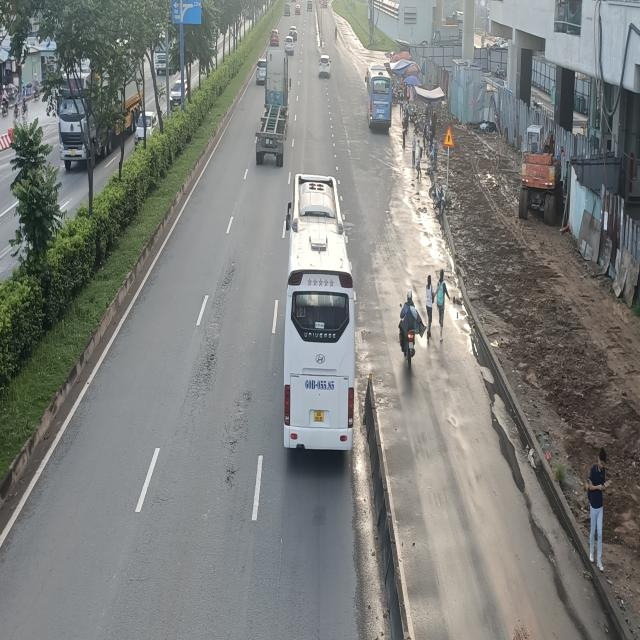car: (318, 55, 331, 79)
coach: (282, 170, 353, 452), (366, 64, 392, 129)
container: (257, 49, 290, 166)
